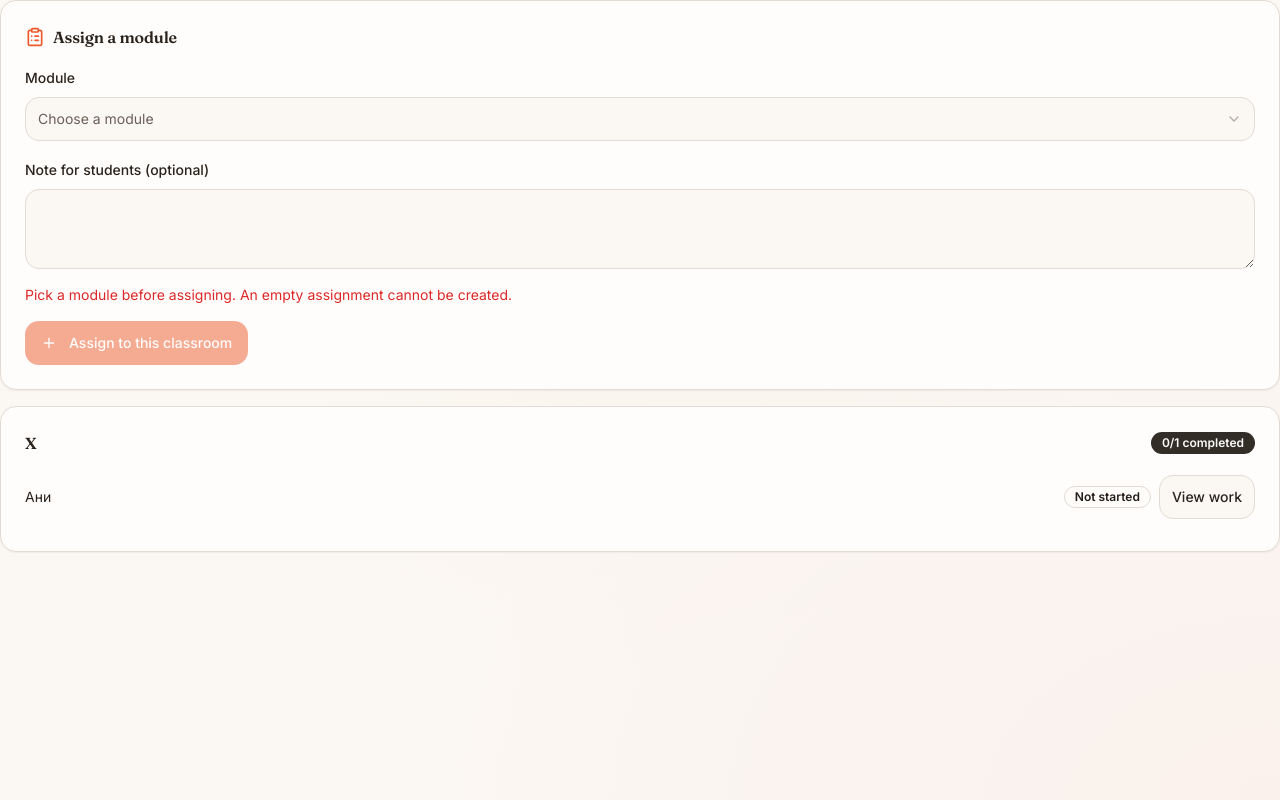
Scenario: f. evidence detail rendering › offers no feedback box when the student has not started
Expected: the text "Not started" is shown, [1064,486,1151,508]
Step 1. Click the button "View work" → (1207, 497), box [1159,475,1255,519]
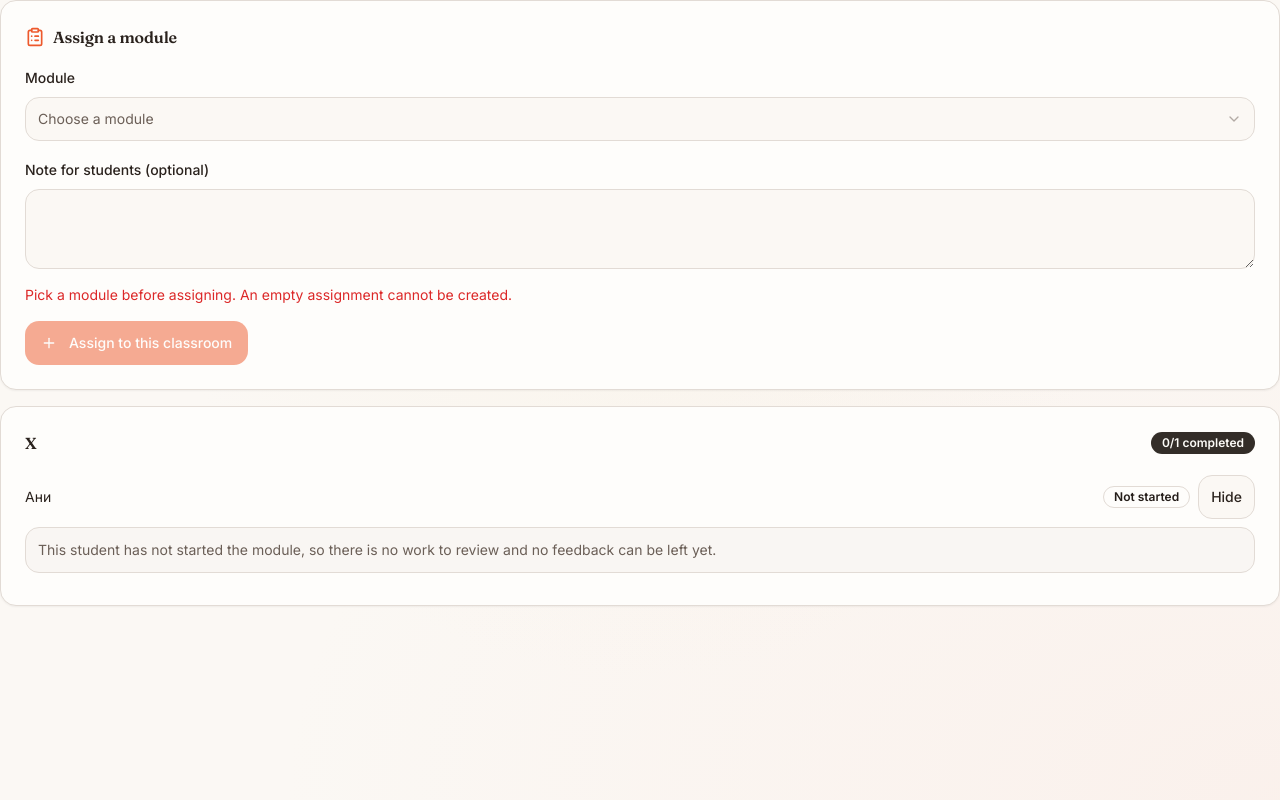
Expected: the text "has not started the module" is shown, [38,541,716,558]
